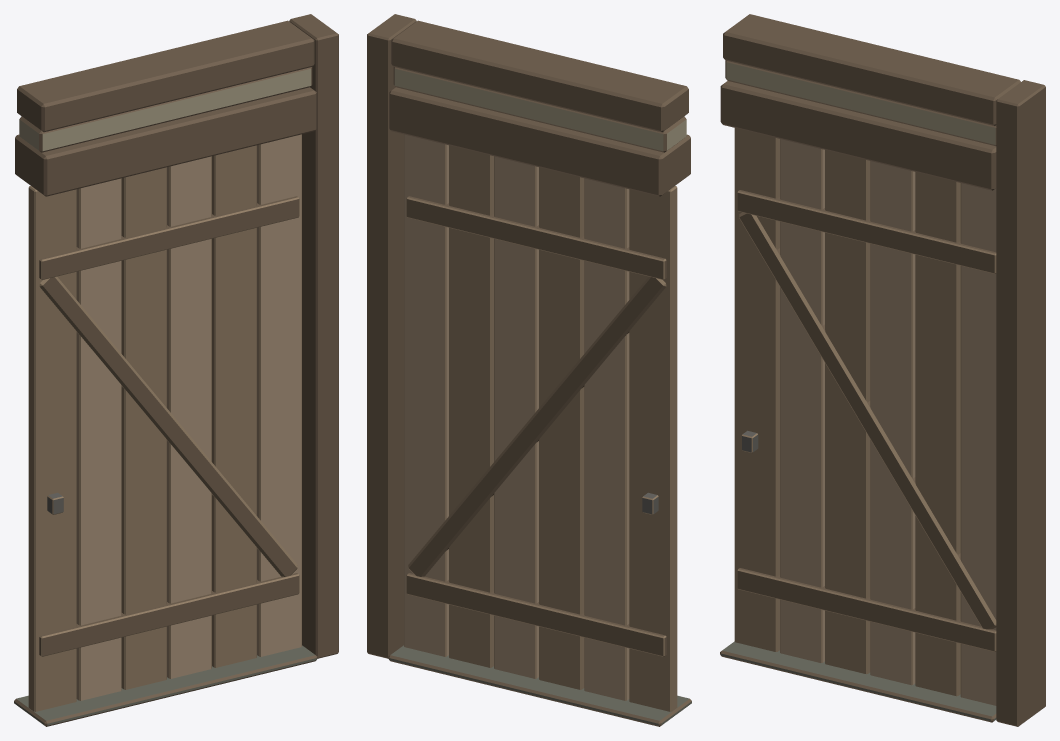
File: gate_right.glb
3 renders of one model, left to right at view 1: azimuth 30°, elevation 25°; view 2: azimuth 150°, elevation 25°; view 3: azimuth 330°, elevation 25°, orthographic.
Parts seen in each view (by area): view 1: Gate_Right_R, Gate_Right_Frame; view 2: Gate_Right_R, Gate_Right_Frame; view 3: Gate_Right_R, Gate_Right_Frame.
Boxes of the visible parts, box(x1,y1,x2,y2) form: Gate_Right_R: box(28, 134, 301, 711); Gate_Right_Frame: box(14, 14, 338, 726); Gate_Right_R: box(404, 134, 677, 711); Gate_Right_Frame: box(367, 14, 691, 726); Gate_Right_R: box(734, 128, 996, 705); Gate_Right_Frame: box(720, 14, 1045, 726).
Bounding box in the file's own units: 1.52 × 3.05 × 0.29.
